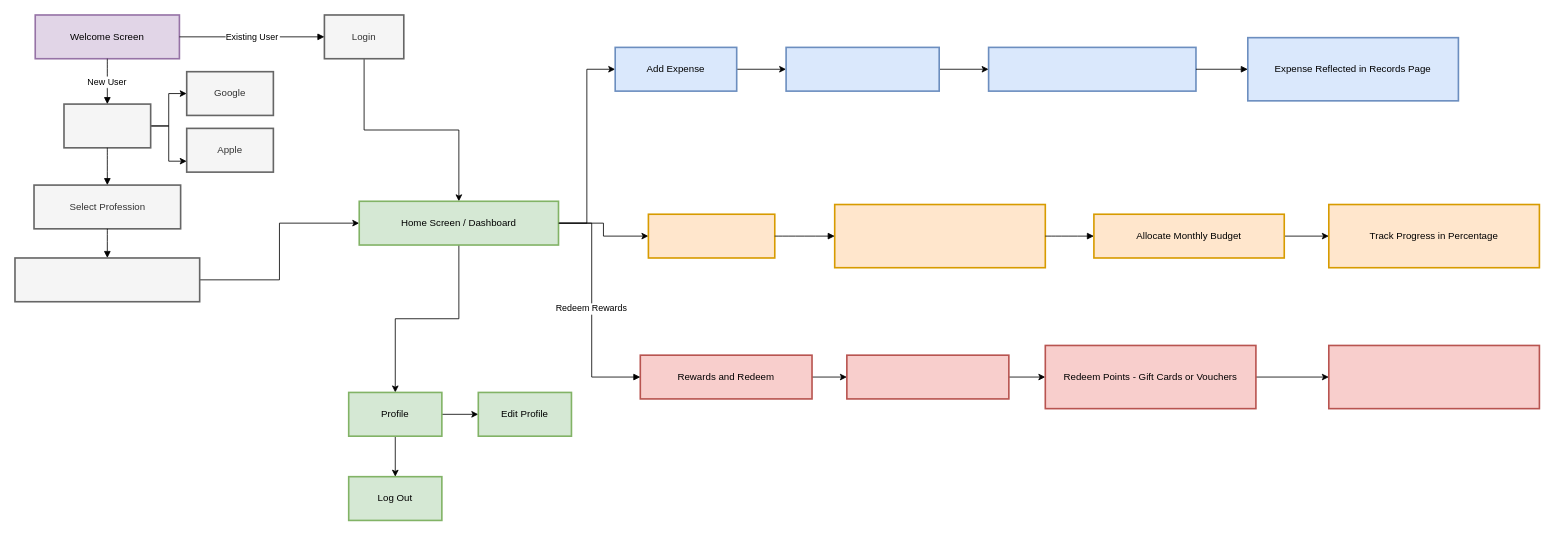
Some shapes in this 1554 by 535 pixel diagram are drawn without their labels. The centre of each missing label's shape, as x and y in pixels:
"Click Add Expense" belongs at [862,69].
"Input Amount and Category" belongs at [1091,69].
"Input Income or Budget" belongs at [107,279].
"Points Deduction Reflected in Dashboard" belongs at [1434,376].
"Savings Goals" belongs at [711,235].
"Signup" belongs at [107,125].
"View Reward Points" belongs at [927,376].
"View, Add, Edit, or Delete Goal" belongs at [939,235].
